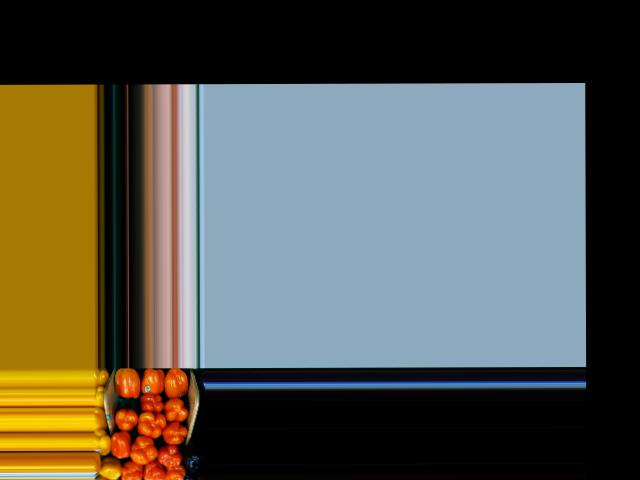bell_pepper: (96, 425, 110, 456)
